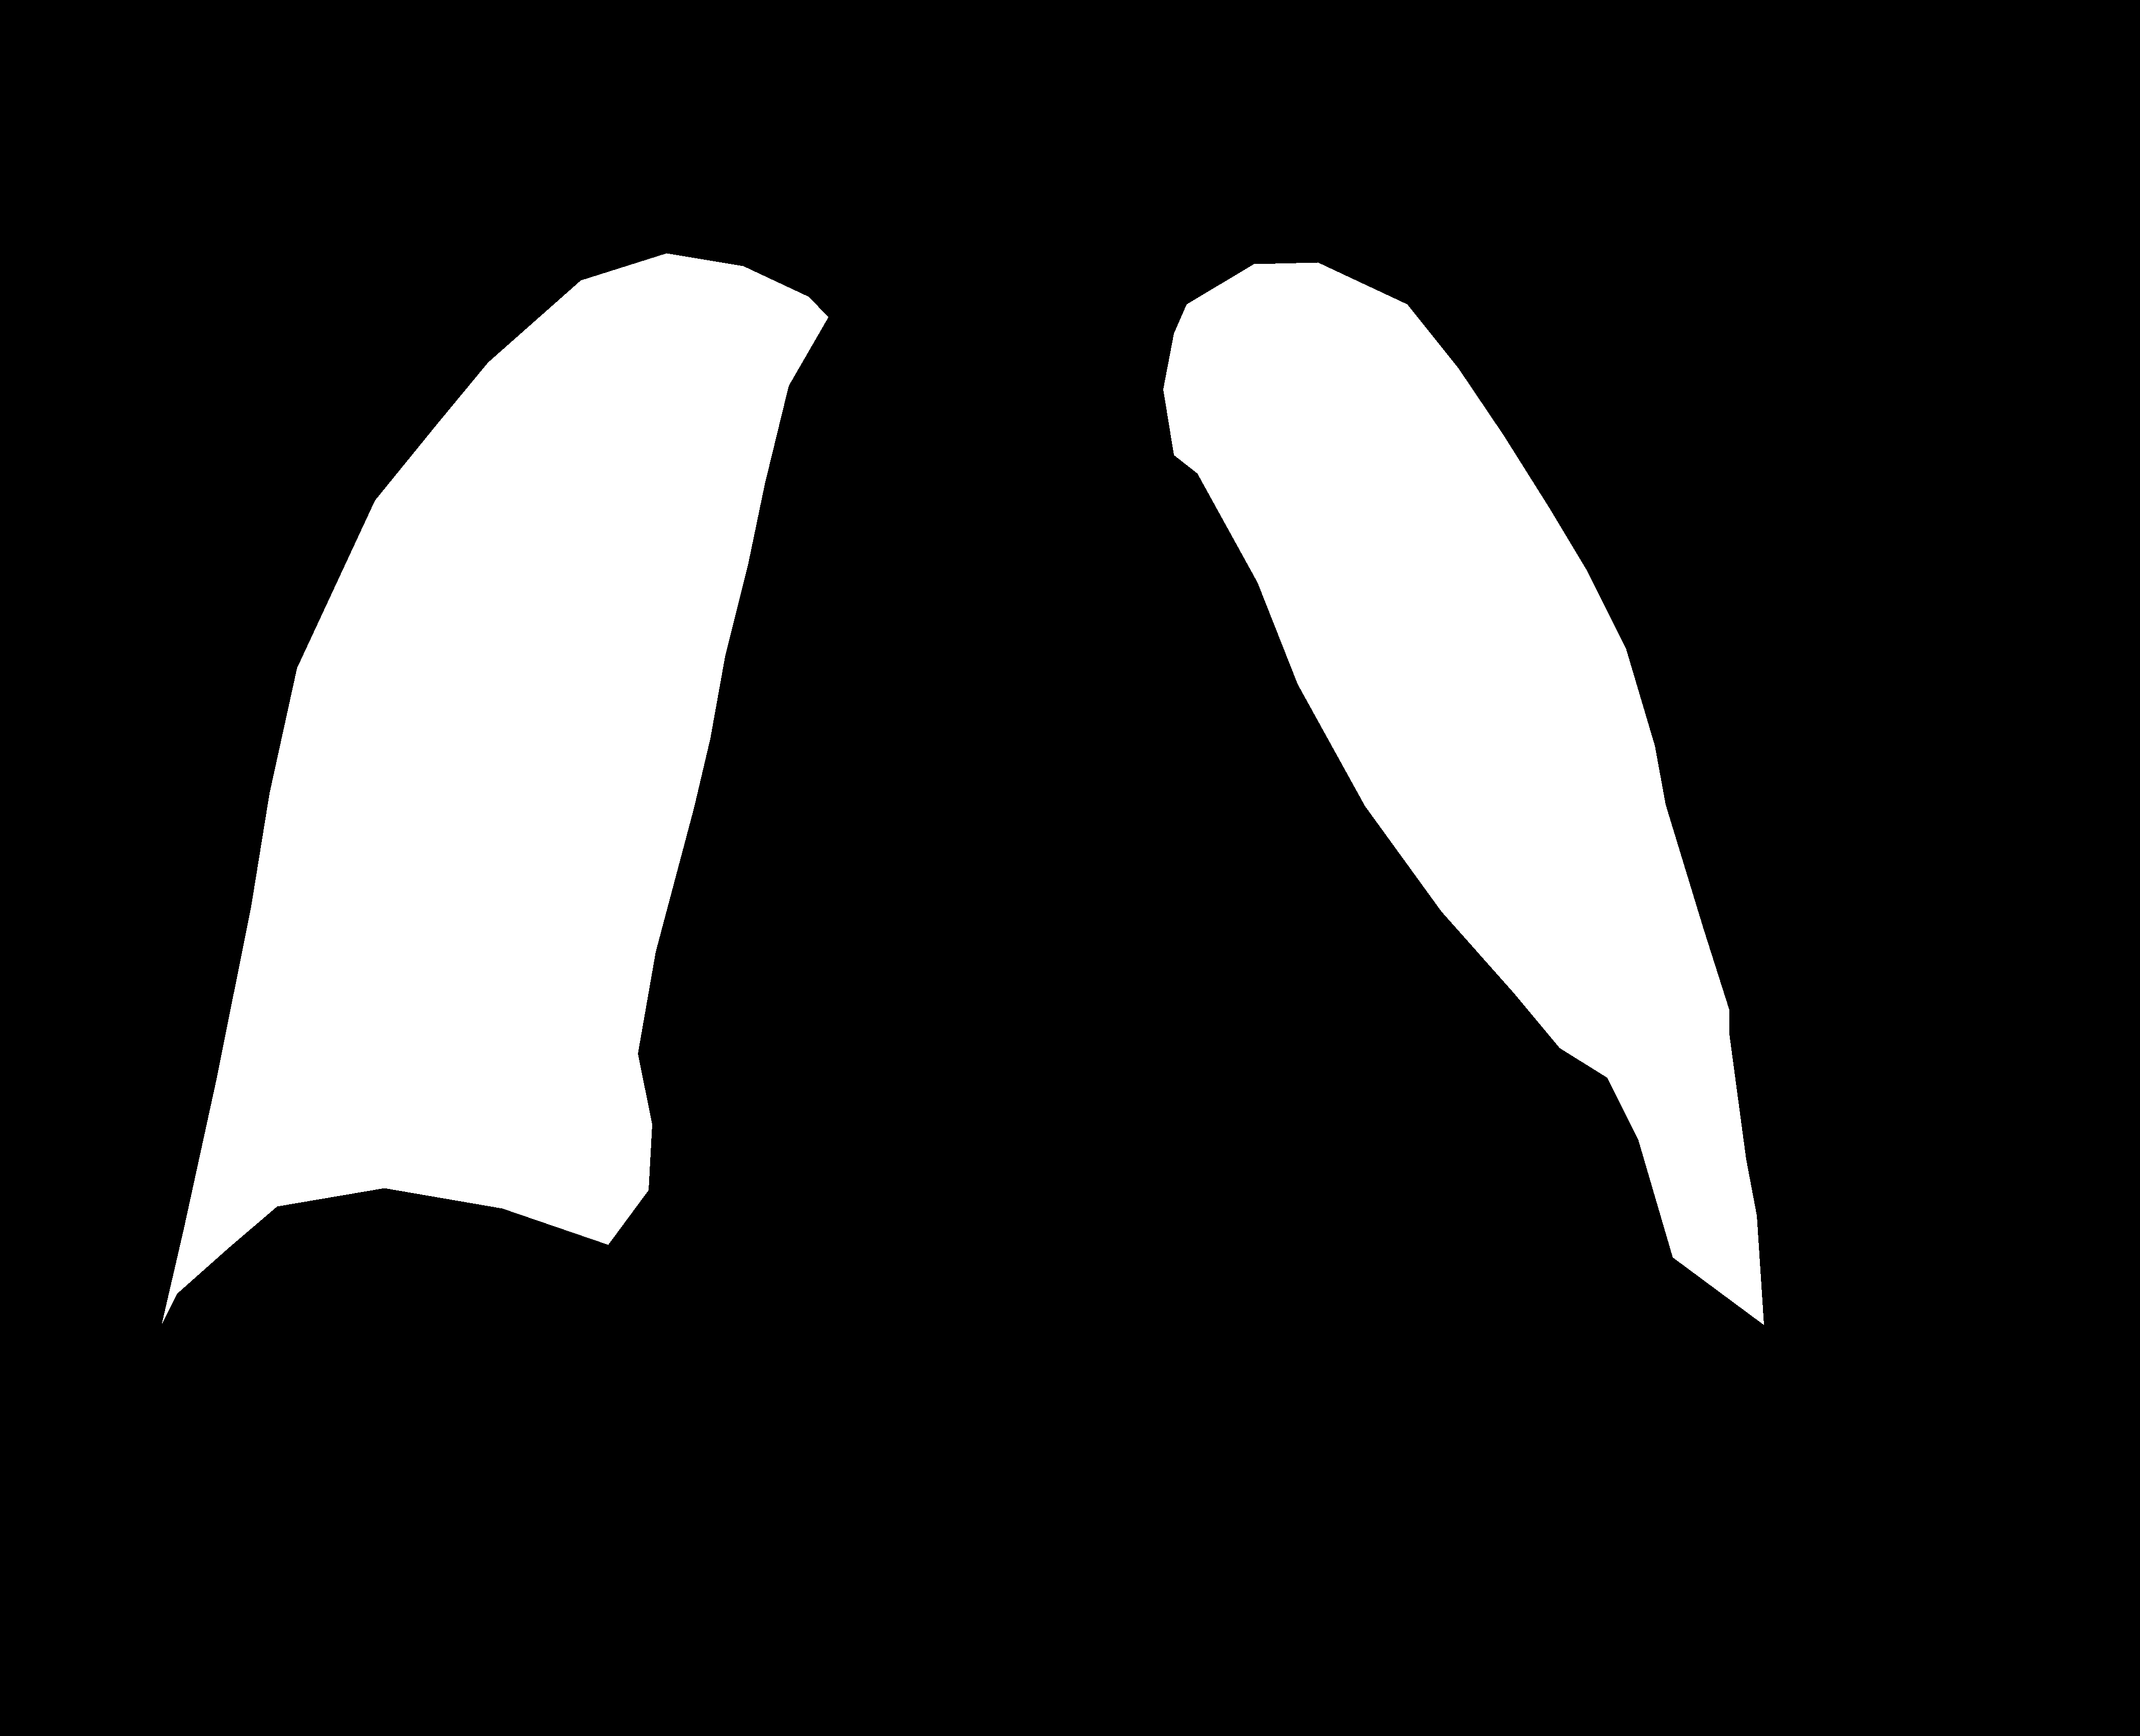heart: (647, 588, 1665, 1359)
left_lung: (161, 253, 827, 1323)
right_lung: (1164, 262, 1763, 1325)
